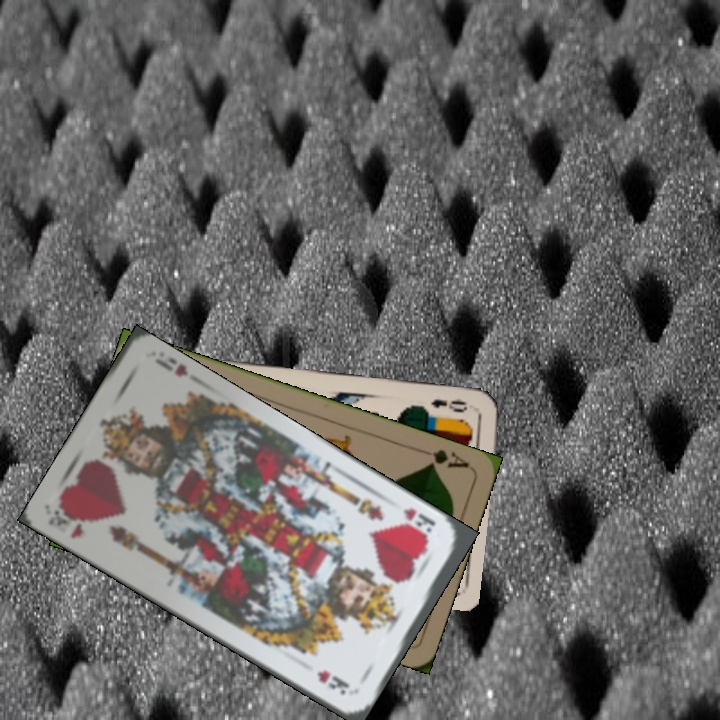EO: (427, 395, 470, 416)
GA: (414, 444, 472, 471)
HK: (45, 504, 87, 541), (399, 504, 439, 535)
